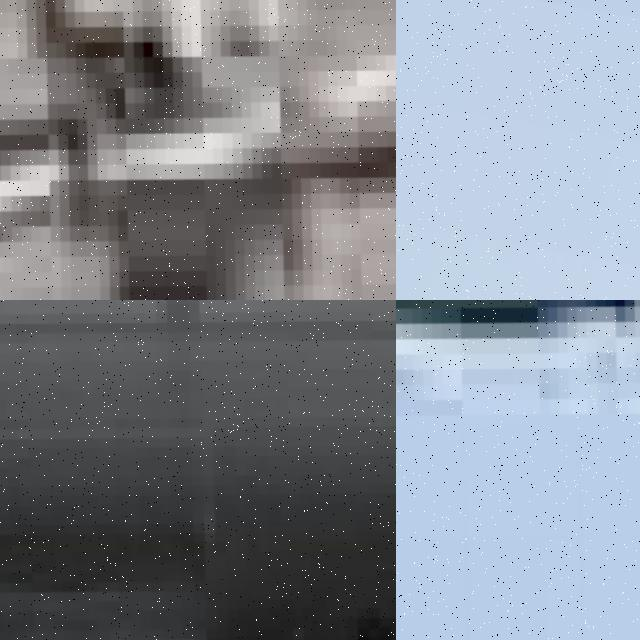drone: (0, 300, 396, 640), (0, 0, 396, 300), (396, 300, 640, 640)
